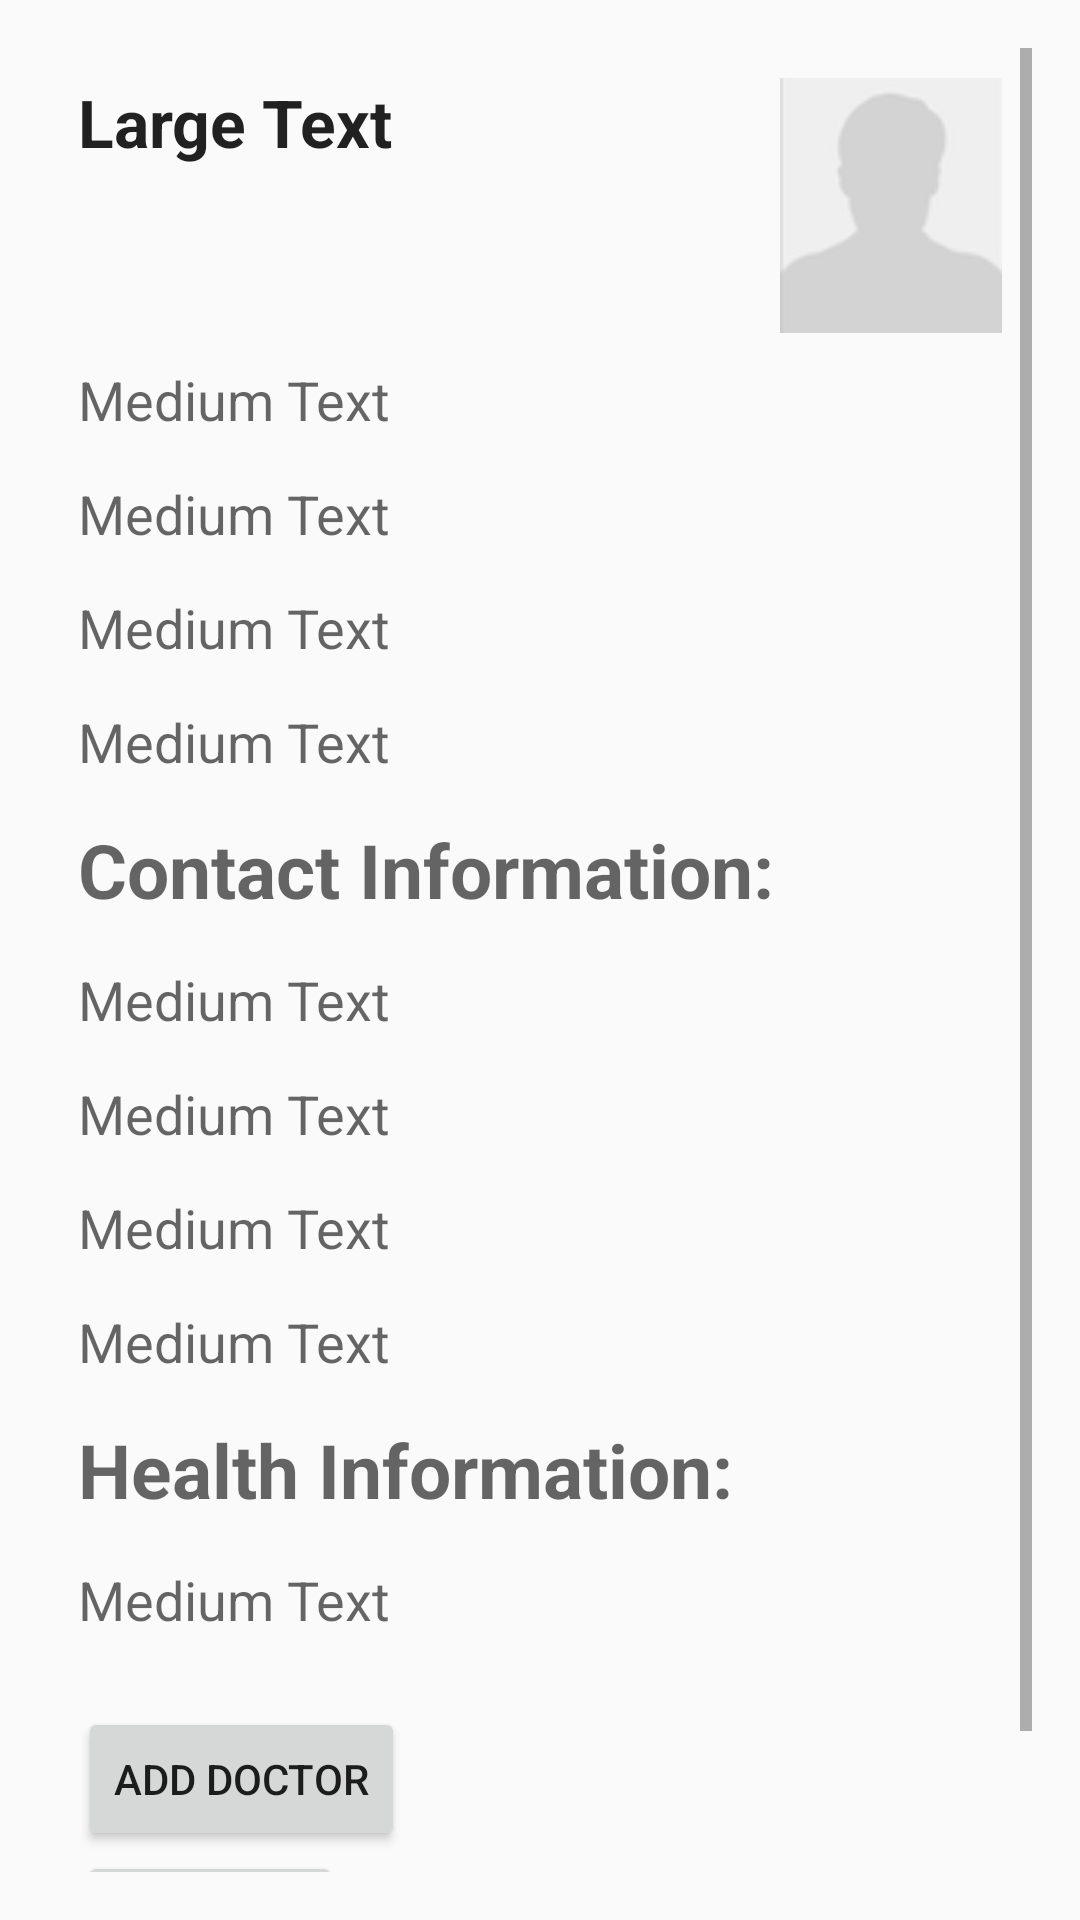

Point at icon controls on the screen. Image size 1080x1920, points as (x=x, y=y).
male: (x=891, y=205)
